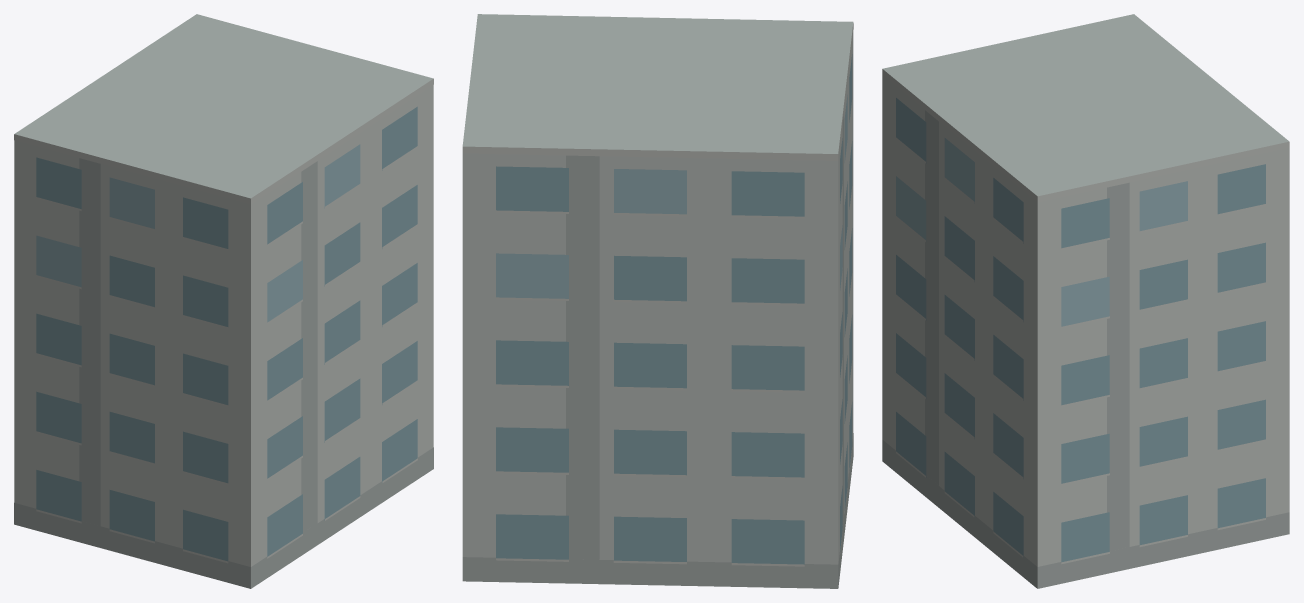
Rendered from residential-a9f83847-6fe1-4503-9bc4-a2eb82f76546.glb.
The picture shows the model from 3 angles, left to right: view 1: azimuth 30°, elevation 25°; view 2: azimuth 150°, elevation 25°; view 3: azimuth 270°, elevation 25°; orthographic projection. The views are drawn at different scales.
Visible parts, largest first — view 1: residential-a9f83847-6fe1-4503-9bc4-a2eb82f76546.tmp; view 2: residential-a9f83847-6fe1-4503-9bc4-a2eb82f76546.tmp; view 3: residential-a9f83847-6fe1-4503-9bc4-a2eb82f76546.tmp.
Part boxes in pixels (x1,y1,x2,y2): residential-a9f83847-6fe1-4503-9bc4-a2eb82f76546.tmp: [14, 14, 433, 588]; residential-a9f83847-6fe1-4503-9bc4-a2eb82f76546.tmp: [462, 14, 853, 588]; residential-a9f83847-6fe1-4503-9bc4-a2eb82f76546.tmp: [882, 14, 1289, 588].
Size of the model in its own units: 15.2 by 15.25 by 14.35.
